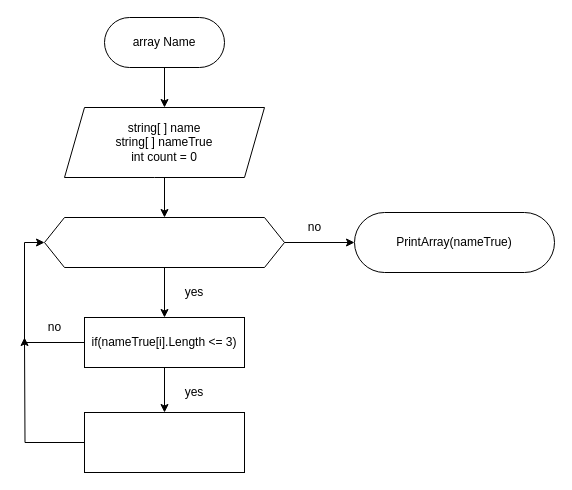
Some shapes in this 572 by 490 pixel diagram are drawn without their labels. The centre of each missing label's shape, as x and y in pixels:
"arrayTemp[count] = nameTrue[i]; count++;" goes at [164,442].
"for (int i = 0; i < nameTrue.Length; i++)" goes at [164,242].
